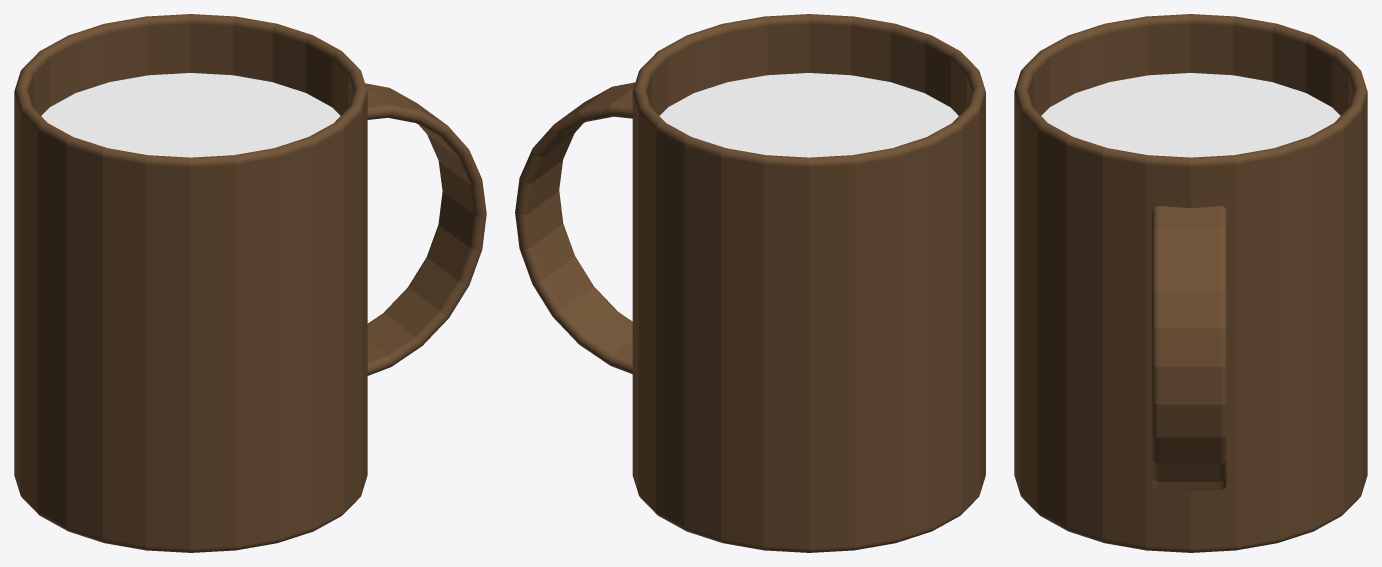
3 renders of one model, left to right at view 1: azimuth 30°, elevation 25°; view 2: azimuth 150°, elevation 25°; view 3: azimuth 270°, elevation 25°, orthographic.
Visible parts, largest first — view 1: mesh4.001_mesh4-geometry, mesh1.001_mesh1-geometry; view 2: mesh4.001_mesh4-geometry, mesh1.001_mesh1-geometry; view 3: mesh4.001_mesh4-geometry, mesh1.001_mesh1-geometry.
Part boxes in pixels (left/top/right/bottom): mesh4.001_mesh4-geometry: left=14, top=14, right=367, bottom=552; mesh1.001_mesh1-geometry: left=365, top=83, right=486, bottom=375; mesh4.001_mesh4-geometry: left=632, top=14, right=985, bottom=552; mesh1.001_mesh1-geometry: left=515, top=82, right=635, bottom=374; mesh4.001_mesh4-geometry: left=1014, top=14, right=1367, bottom=552; mesh1.001_mesh1-geometry: left=1152, top=206, right=1226, bottom=490.
Size of the model in its own units: 0.6647 by 0.5798 by 0.4711.
